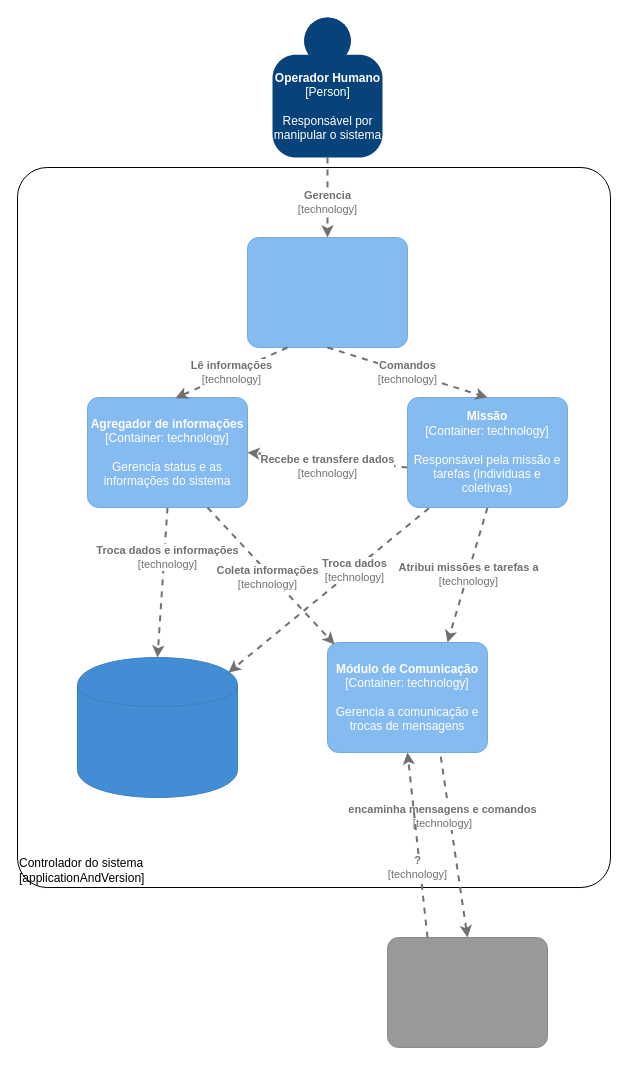
Image size: 628x1065. Some labels were removed from this diagram. The centre of each missing label's shape, as x and y in pixels:
Database [Container: Technology] Banco de dados: point (157, 727)
UAVs [Container: technology] Responsável por gerir internamente cada UAV: point (467, 992)
WEB Application [Container: technology] Description: point (327, 292)
